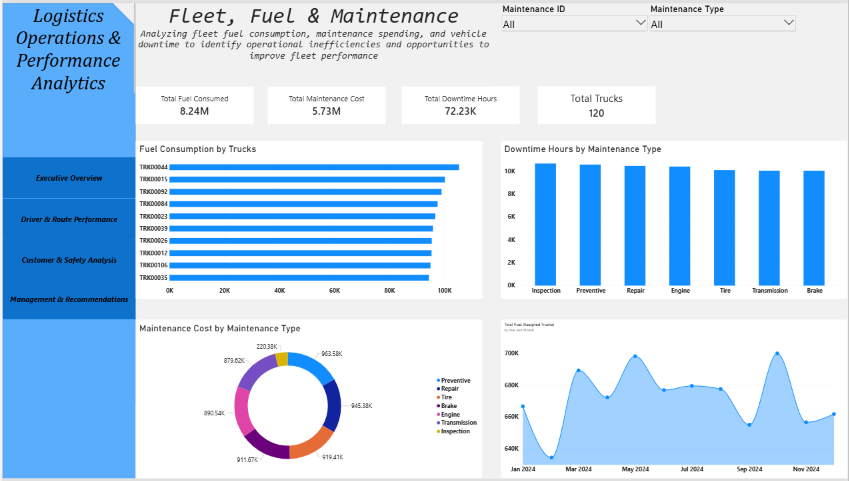

What the dashboard file says about the page in this screenshot:
{"tool":"powerbi","page":{"name":"Fleet, Fuel & Maintenance","canvas":[3840,2160],"ordinal":2},"visuals":[{"type":"shape","box":[0,0,604.2,2157.7],"z":0},{"type":"cardVisual","fields":{"Data":["Trucks.Total Trucks"]},"box":[2430.3,377,536,172.6],"z":1000},{"type":"cardVisual","fields":{"Data":["Fuel Purchases.Total Fuel Consumed"]},"box":[604.2,377,536,172.6],"z":2000},{"type":"cardVisual","fields":{"Data":["Maintenance Record.Total Maintenance Cost"]},"box":[1203.8,377,536,172.6],"z":3000},{"type":"cardVisual","fields":{"Data":["Maintenance Record.Total Downtime Hours"]},"box":[1812.5,377,536,172.6],"z":4000},{"type":"clusteredBarChart","title":"Fuel Consumption by Trucks","fields":{"Category":["Trucks.truck_id"],"Y":["Fuel Purchases.Total Fuel (Assigned Trucks)"]},"box":[604.2,622.3,1576.3,722.3],"z":5000},{"type":"donutChart","title":"Maintenance Cost by Maintenance Type","fields":{"Category":["Maintenance Record.maintenance_type"],"Y":["Maintenance Record.Total Maintenance Cost"]},"box":[604.2,1435.5,1576.3,722.3],"z":6000},{"type":"clusteredColumnChart","title":"Downtime Hours by Maintenance Type","fields":{"Category":["Maintenance Record.maintenance_type"],"Y":["Maintenance Record.Total Downtime Hours"]},"box":[2262.2,622.3,1576.3,722.3],"z":7000},{"type":"lineChart","fields":{"Category":["Fuel Purchases.purchase_date.Variation.Date Hierarchy.Year","Fuel Purchases.purchase_date.Variation.Date Hierarchy.Month"],"Y":["Fuel Purchases.Total Fuel (Assigned Trucks)"]},"box":[2262.2,1435.5,1576.3,722.3],"z":8000},{"type":"textbox","box":[604.2,0,1617.2,272.6],"z":9000},{"type":"actionButton","box":[0,699.6,604.2,186.2],"z":10000},{"type":"actionButton","box":[0,885.8,604.2,186.2],"z":11000},{"type":"actionButton","box":[0,1072.1,604.2,186.2],"z":12000},{"type":"actionButton","box":[0,1249.2,604.2,186.2],"z":13000},{"type":"textbox","box":[0,0,604.2,408.8],"z":14000},{"type":"slicer","fields":{"Values":["Maintenance Record.maintenance_id"]},"box":[2262.2,0,672.3,204.4],"z":15000},{"type":"slicer","fields":{"Values":["Maintenance Record.maintenance_type"]},"box":[2934.5,0,672.3,204.4],"z":16000}]}

Visuals, with their boxes in screenshot pixels (x1, y1, x2, y2), scaled from the page's 3840x2160 canvas onto the 850x481 screenshot:
shape: (x1=0, y1=0, x2=134, y2=480)
cardVisual - Trucks.Total Trucks: (x1=538, y1=84, x2=657, y2=122)
cardVisual - Fuel Purchases.Total Fuel Consumed: (x1=134, y1=84, x2=252, y2=122)
cardVisual - Maintenance Record.Total Maintenance Cost: (x1=266, y1=84, x2=385, y2=122)
cardVisual - Maintenance Record.Total Downtime Hours: (x1=401, y1=84, x2=520, y2=122)
"Fuel Consumption by Trucks" clusteredBarChart: (x1=134, y1=139, x2=483, y2=299)
"Maintenance Cost by Maintenance Type" donutChart: (x1=134, y1=320, x2=483, y2=480)
"Downtime Hours by Maintenance Type" clusteredColumnChart: (x1=501, y1=139, x2=849, y2=299)
lineChart - Fuel Purchases.purchase_date.Variation.Date Hierarchy.Year x Fuel Purchases.purchase_date.Variation.Date Hierarchy.Month: (x1=501, y1=320, x2=849, y2=480)
textbox: (x1=134, y1=0, x2=492, y2=61)
actionButton: (x1=0, y1=156, x2=134, y2=197)
actionButton: (x1=0, y1=197, x2=134, y2=239)
actionButton: (x1=0, y1=239, x2=134, y2=280)
actionButton: (x1=0, y1=278, x2=134, y2=320)
textbox: (x1=0, y1=0, x2=134, y2=91)
slicer - Maintenance Record.maintenance_id: (x1=501, y1=0, x2=650, y2=46)
slicer - Maintenance Record.maintenance_type: (x1=650, y1=0, x2=798, y2=46)
